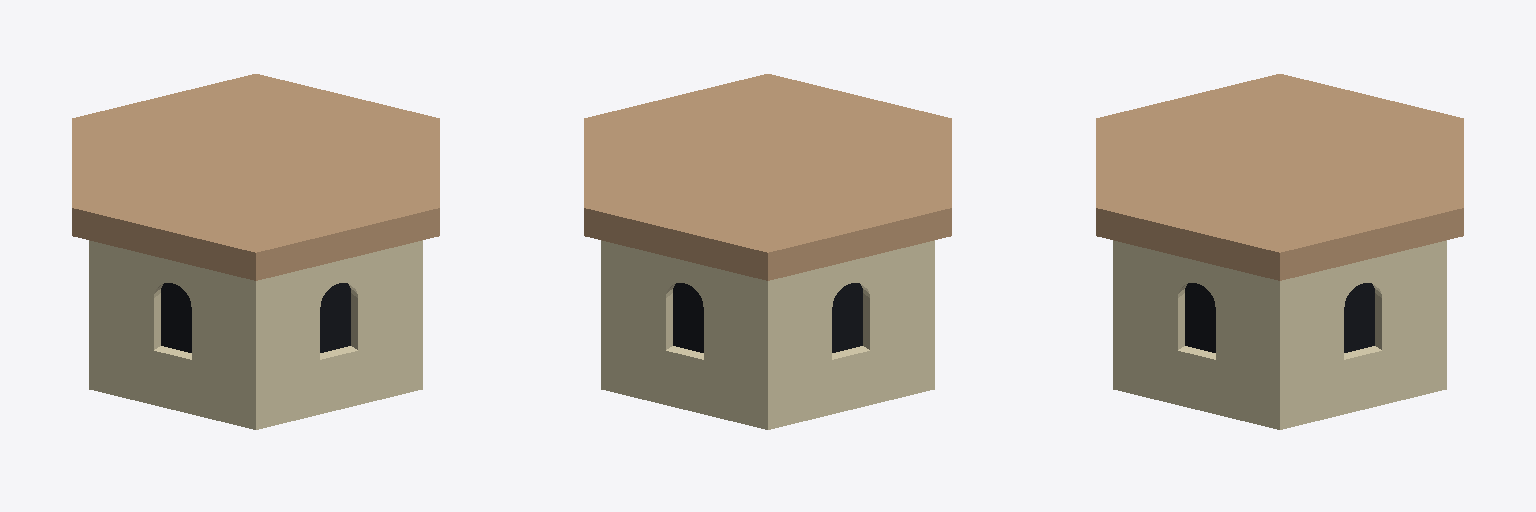
File: towerHexagonMid_exclusive.obj
The picture shows the model from 3 angles: view 1: azimuth 30°, elevation 25°; view 2: azimuth 150°, elevation 25°; view 3: azimuth 270°, elevation 25°; orthographic projection.
Visible parts, largest first — view 1: towerHexagonMid_exclusive; view 2: towerHexagonMid_exclusive; view 3: towerHexagonMid_exclusive.
Boxes of the visible parts, x1=… form: towerHexagonMid_exclusive: x1=72, y1=74, x2=439, y2=429; towerHexagonMid_exclusive: x1=584, y1=74, x2=951, y2=429; towerHexagonMid_exclusive: x1=1096, y1=74, x2=1463, y2=429.
Bounding box in the file's own units: 9.52 × 4.6 × 8.25.